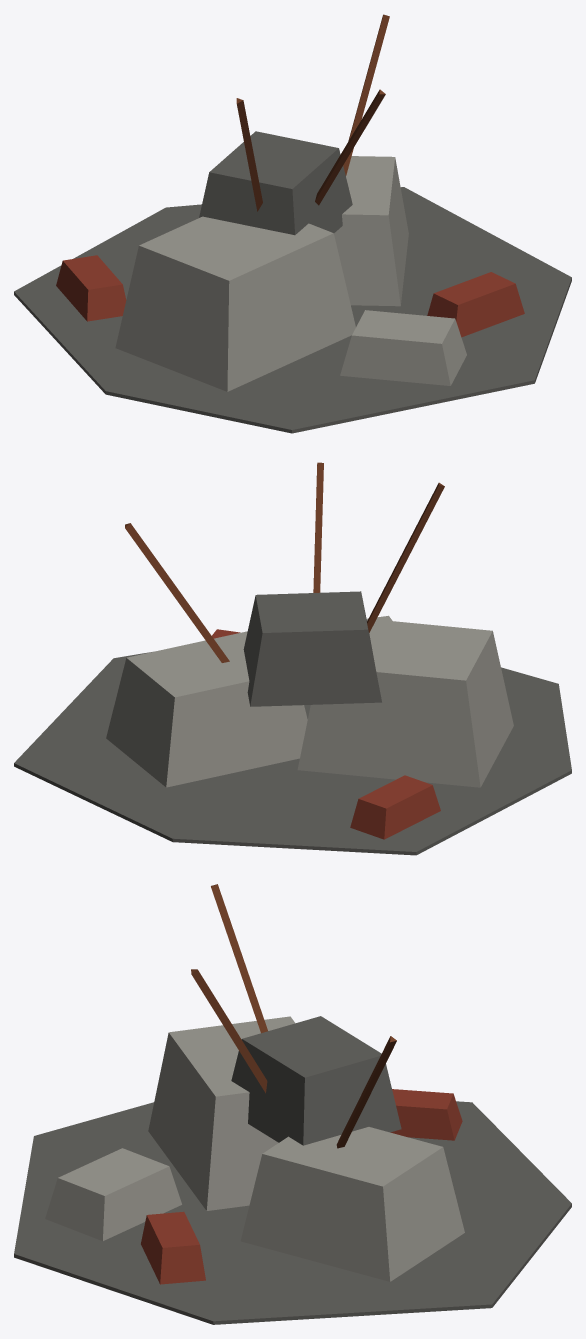
The model's file is rubble_pile.glb.
The picture shows the model from 3 angles, top to bottom: view 1: azimuth 30°, elevation 25°; view 2: azimuth 150°, elevation 25°; view 3: azimuth 270°, elevation 25°; orthographic projection. The views are drawn at different scales.
Parts seen in each view (by area): view 1: rubble_pile; view 2: rubble_pile; view 3: rubble_pile.
Boxes of the visible parts, left/top/right/bottom form: rubble_pile: left=14, top=14, right=571, bottom=433; rubble_pile: left=14, top=462, right=571, bottom=855; rubble_pile: left=14, top=884, right=571, bottom=1324.
Bounding box in the file's own units: 1.4 × 0.7539 × 1.4.
Materials: 1 (1 with a texture image).
